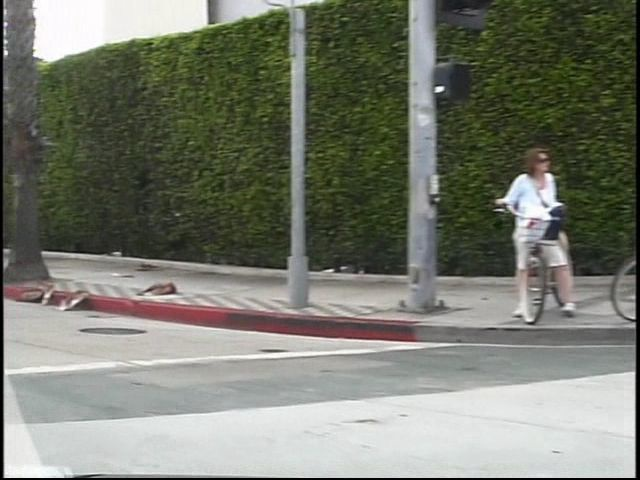person: (489, 150, 559, 324)
